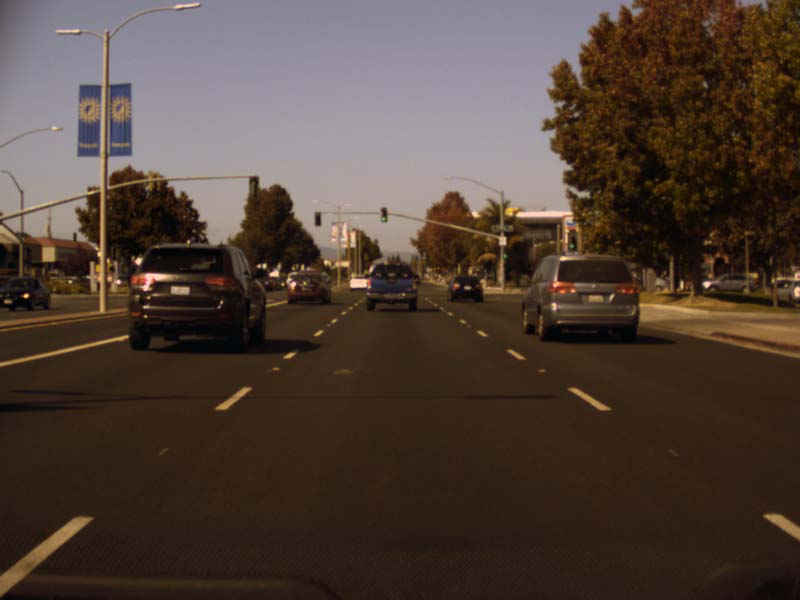Green: (568, 232, 576, 251), (380, 207, 388, 223), (502, 247, 507, 260)
